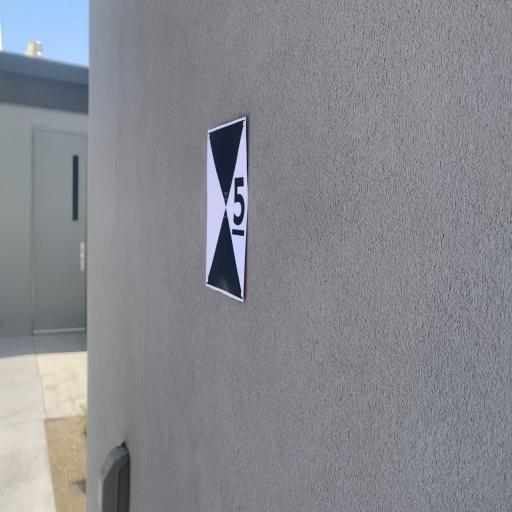target5: (203, 117, 249, 305)
